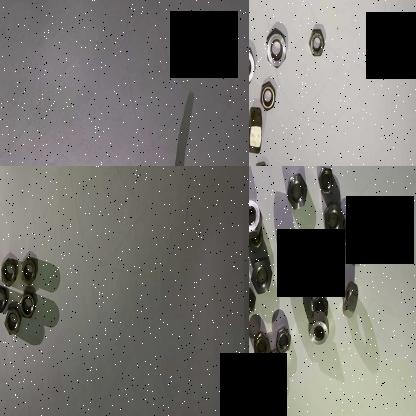NUTS: (262, 25, 288, 71), (284, 168, 308, 210), (249, 256, 273, 295), (306, 309, 330, 347), (321, 200, 345, 238), (304, 24, 326, 60), (340, 280, 358, 322), (249, 102, 262, 158), (0, 252, 17, 291), (308, 290, 330, 320), (266, 344, 284, 380), (2, 303, 21, 337), (19, 255, 38, 289), (251, 326, 269, 361), (249, 191, 263, 236), (337, 218, 357, 248), (316, 166, 335, 196), (16, 291, 36, 319), (260, 82, 278, 112), (274, 325, 292, 353), (249, 225, 265, 249), (249, 43, 256, 89), (0, 280, 7, 316), (249, 287, 255, 319), (249, 397, 256, 416)
